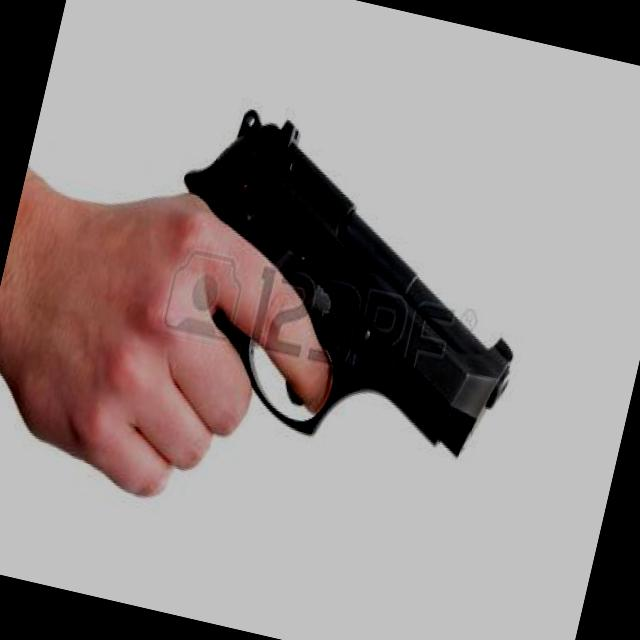handgun: (72, 72, 564, 534)
